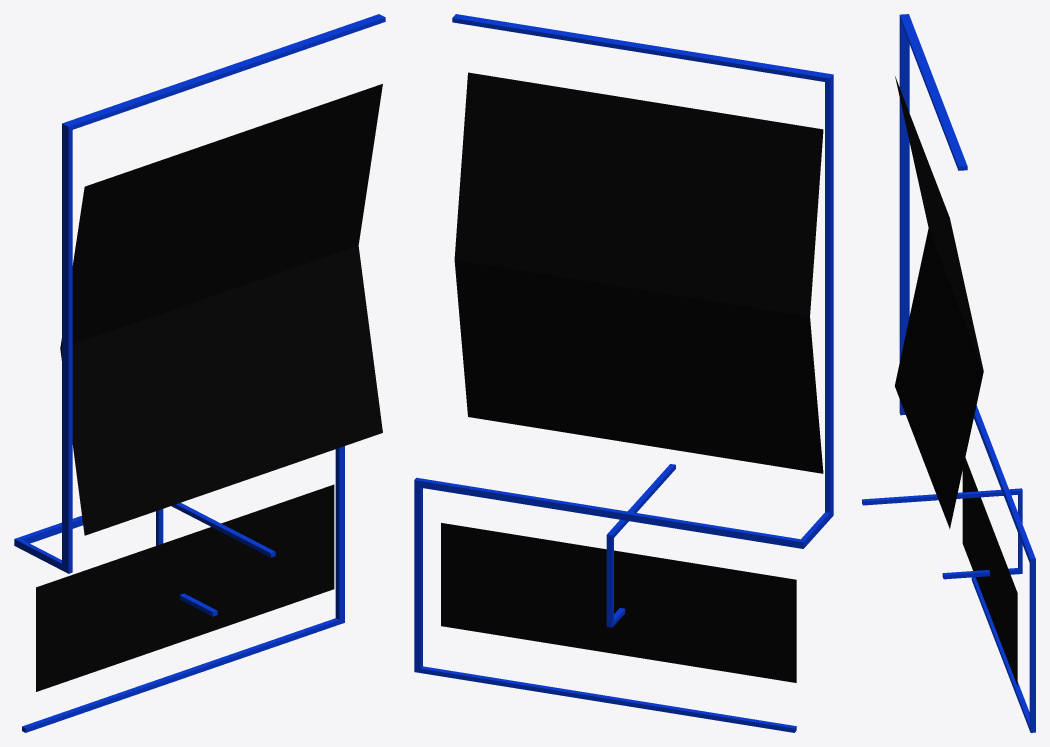
The model's file is rig_animation_bbu3.glb.
3 views of the same model, side by side, from view 1: azimuth 30°, elevation 25°; view 2: azimuth 150°, elevation 25°; view 3: azimuth 270°, elevation 25° (orthographic). The views are drawn at different scales.
Parts seen in each view (by area): view 1: face, eye, avatar_animated_finish; view 2: face, eye, avatar_animated_finish; view 3: face, avatar_animated_finish, eye.
Part boxes in pixels (box(x1,y1,x2,y2)): face: box(60, 84, 382, 535); eye: box(36, 484, 334, 691); avatar_animated_finish: box(14, 14, 385, 732); face: box(454, 72, 823, 473); eye: box(441, 523, 796, 682); avatar_animated_finish: box(414, 14, 833, 732); face: box(895, 76, 983, 528); avatar_animated_finish: box(862, 14, 1035, 732); eye: box(962, 458, 1017, 685).
Size of the model in its own units: 1.08 by 1.82 by 0.5061.
